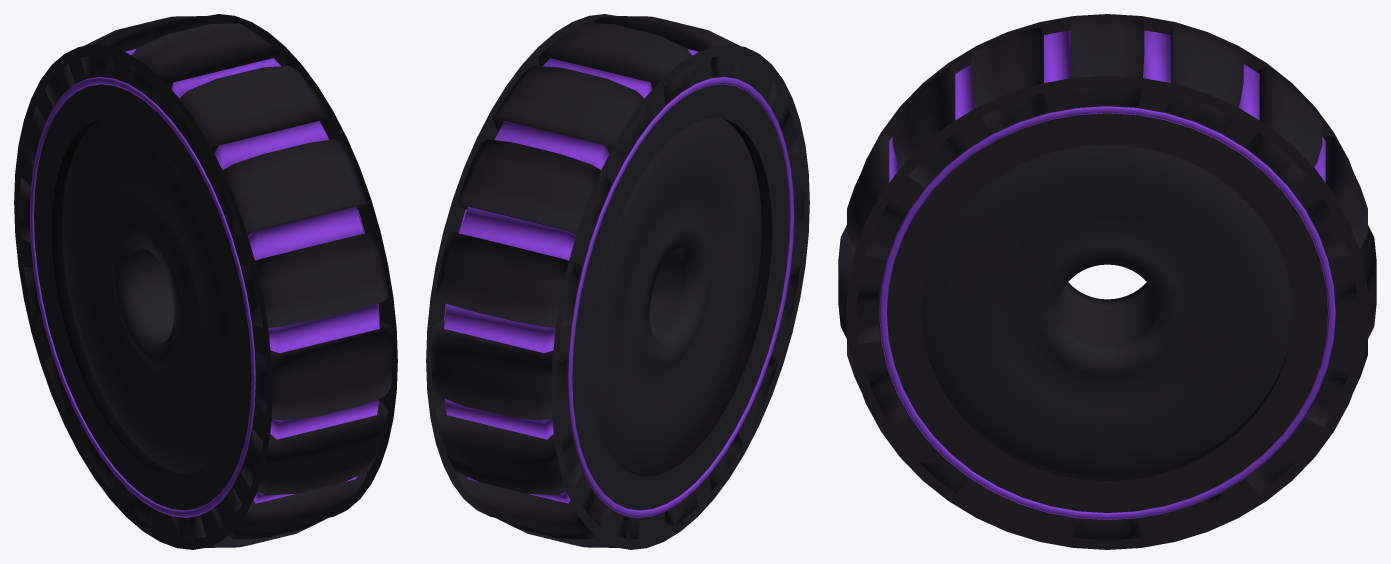
Rendered from violet-wheel.obj.
The picture shows the model from 3 angles, left to right: view 1: azimuth 30°, elevation 25°; view 2: azimuth 150°, elevation 25°; view 3: azimuth 270°, elevation 25°; orthographic projection.
Parts seen in each view (by area): view 1: violet-wheel_stepped_hub_and_sidewalls, violet-wheel_sixteen_radial_armor_pods, violet-wheel_violet_side_rings, violet-wheel_eight_detail_glow_grooves, violet-wheel_dark_under_core, violet-wheel_four_secondary_glow_grooves, violet-wheel_four_primary_glow_grooves; view 2: violet-wheel_stepped_hub_and_sidewalls, violet-wheel_sixteen_radial_armor_pods, violet-wheel_eight_detail_glow_grooves, violet-wheel_violet_side_rings, violet-wheel_dark_under_core, violet-wheel_four_primary_glow_grooves, violet-wheel_four_secondary_glow_grooves; view 3: violet-wheel_stepped_hub_and_sidewalls, violet-wheel_sixteen_radial_armor_pods, violet-wheel_violet_side_rings, violet-wheel_eight_detail_glow_grooves, violet-wheel_dark_under_core, violet-wheel_four_primary_glow_grooves, violet-wheel_four_secondary_glow_grooves.
Boxes of the visible parts, x1=… form: violet-wheel_stepped_hub_and_sidewalls: x1=14, y1=14, x2=397, y2=549; violet-wheel_sixteen_radial_armor_pods: x1=19, y1=16, x2=392, y2=547; violet-wheel_violet_side_rings: x1=29, y1=77, x2=379, y2=517; violet-wheel_eight_detail_glow_grooves: x1=125, y1=49, x2=379, y2=503; violet-wheel_dark_under_core: x1=51, y1=85, x2=379, y2=476; violet-wheel_four_secondary_glow_grooves: x1=247, y1=206, x2=363, y2=260; violet-wheel_four_primary_glow_grooves: x1=171, y1=58, x2=378, y2=439; violet-wheel_stepped_hub_and_sidewalls: x1=426, y1=14, x2=809, y2=549; violet-wheel_sixteen_radial_armor_pods: x1=431, y1=16, x2=804, y2=547; violet-wheel_eight_detail_glow_grooves: x1=445, y1=58, x2=652, y2=439; violet-wheel_violet_side_rings: x1=444, y1=77, x2=794, y2=517; violet-wheel_dark_under_core: x1=444, y1=85, x2=772, y2=476; violet-wheel_four_primary_glow_grooves: x1=444, y1=49, x2=698, y2=353; violet-wheel_four_secondary_glow_grooves: x1=466, y1=121, x2=609, y2=503; violet-wheel_stepped_hub_and_sidewalls: x1=846, y1=14, x2=1368, y2=549; violet-wheel_sixteen_radial_armor_pods: x1=838, y1=19, x2=1376, y2=539; violet-wheel_violet_side_rings: x1=879, y1=106, x2=1335, y2=519; violet-wheel_eight_detail_glow_grooves: x1=955, y1=30, x2=1325, y2=182; violet-wheel_dark_under_core: x1=927, y1=353, x2=1287, y2=480; violet-wheel_four_primary_glow_grooves: x1=1044, y1=30, x2=1071, y2=82; violet-wheel_four_secondary_glow_grooves: x1=889, y1=64, x2=1259, y2=182.
Size of the model in its own units: 0.2712 by 0.971 by 0.971.
